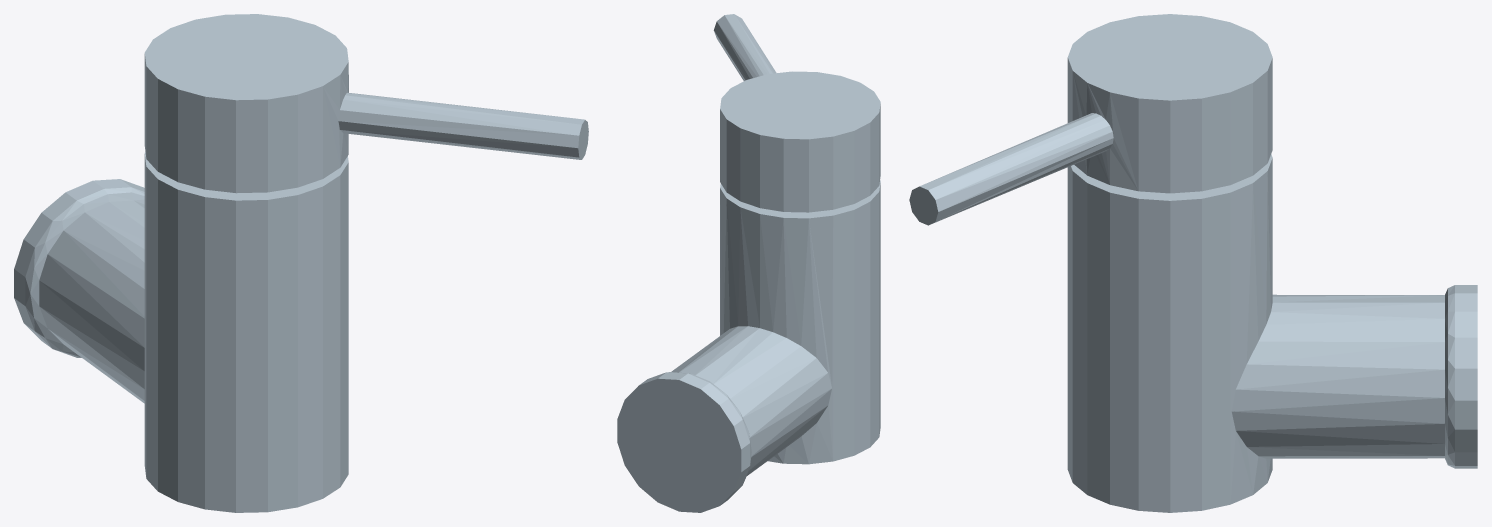
Rendered from mobile-kitchen-counter__Sink_water_tab.obj.
3 renders of one model, left to right at view 1: azimuth 30°, elevation 25°; view 2: azimuth 150°, elevation 25°; view 3: azimuth 270°, elevation 25°, orthographic. The views are drawn at different scales.
Parts seen in each view (by area): view 1: water_tab_o64_IndexedFaceSet; view 2: water_tab_o64_IndexedFaceSet; view 3: water_tab_o64_IndexedFaceSet.
Part boxes in pixels (bbox=[...]): water_tab_o64_IndexedFaceSet: bbox=[14, 14, 588, 512]; water_tab_o64_IndexedFaceSet: bbox=[617, 14, 880, 512]; water_tab_o64_IndexedFaceSet: bbox=[909, 14, 1477, 512].
Size of the model in its own units: 0.0886 by 0.111 by 0.1386.
